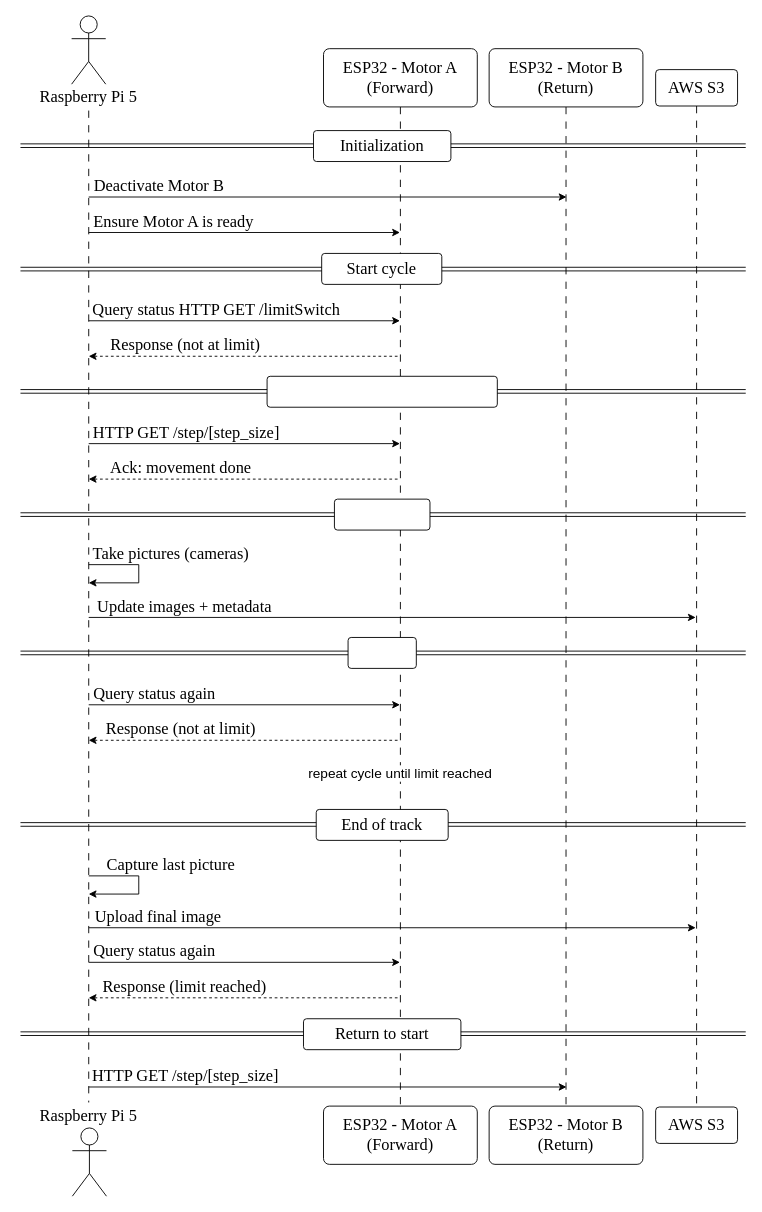
The diagram is 762 pixels wide and 1212 high, and some of its shapes have lost their labels. Here are the shapes that lost their labels. From the top down, the centre of each, then its label:
At pixel 381 391: "Move platform forward".
At pixel 382 514: "Capture".
At pixel 381 652: "Loop".
